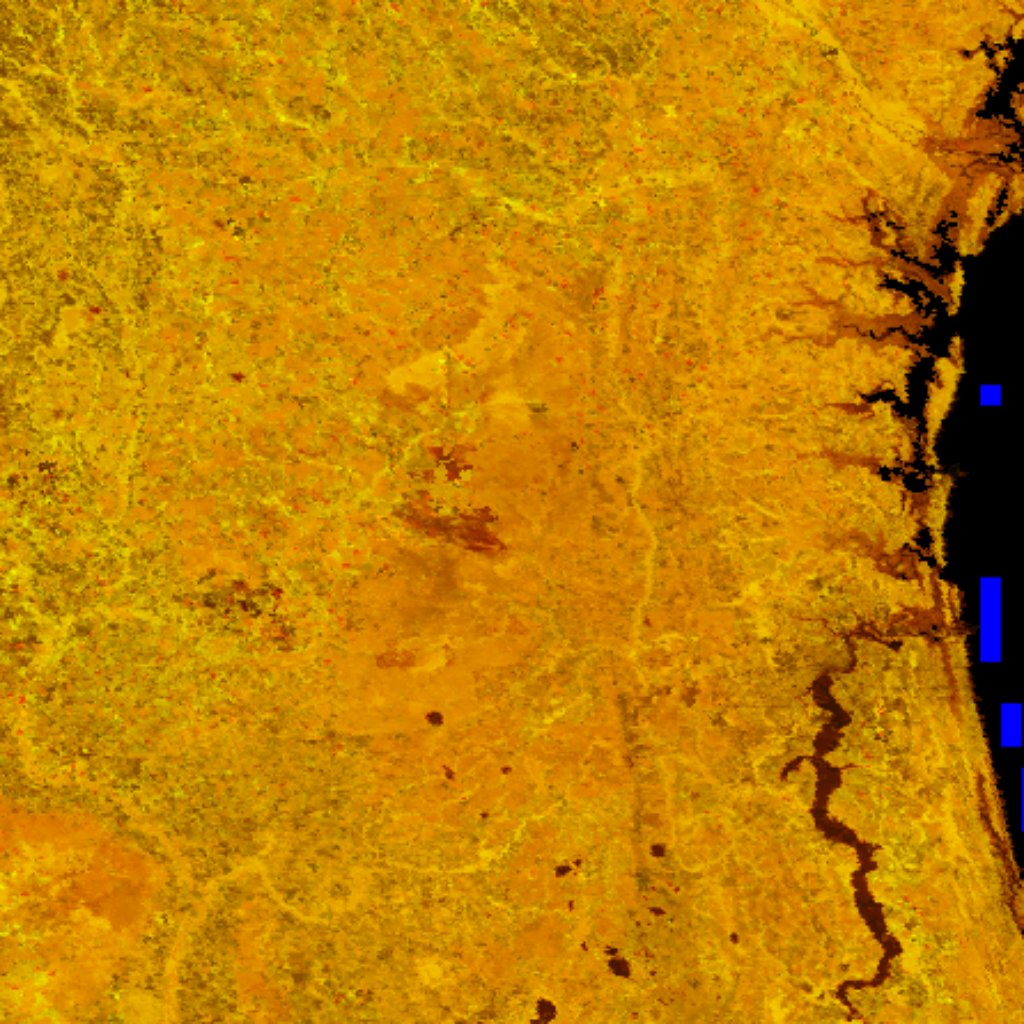fire: (0, 0, 1024, 1024), (1011, 92, 1024, 126), (919, 291, 930, 307), (917, 472, 926, 479), (1018, 83, 1024, 92), (1020, 149, 1024, 152)
